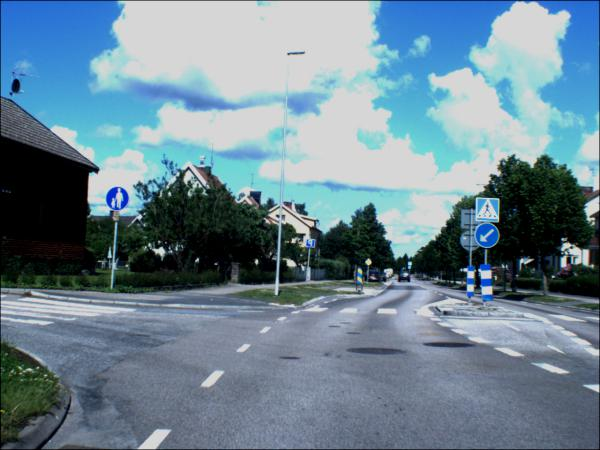PASS_RIGHT_SIDE: (474, 224, 500, 251), (408, 267, 412, 271)
PEDESTRIAN_CROSSING: (476, 200, 500, 224), (408, 263, 413, 267)
PRIORITY_ROAD: (365, 259, 372, 267)
